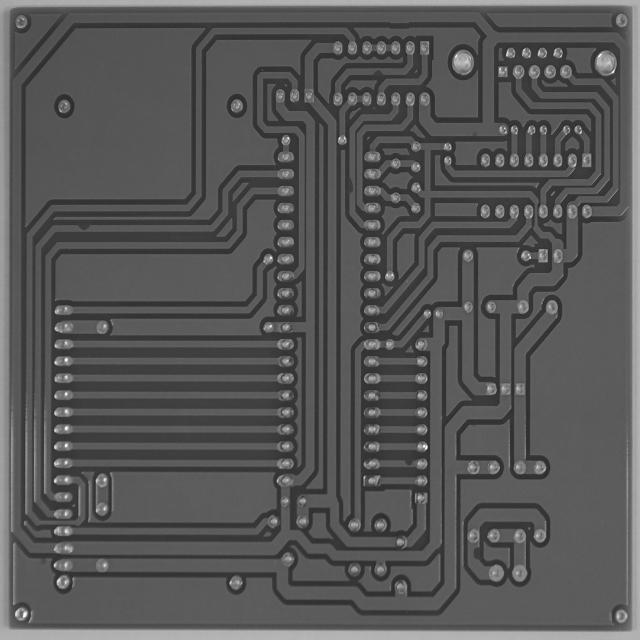mouse_bite: (78, 185, 98, 206), (496, 537, 511, 558), (390, 20, 410, 35), (366, 137, 376, 161), (425, 442, 440, 455)
